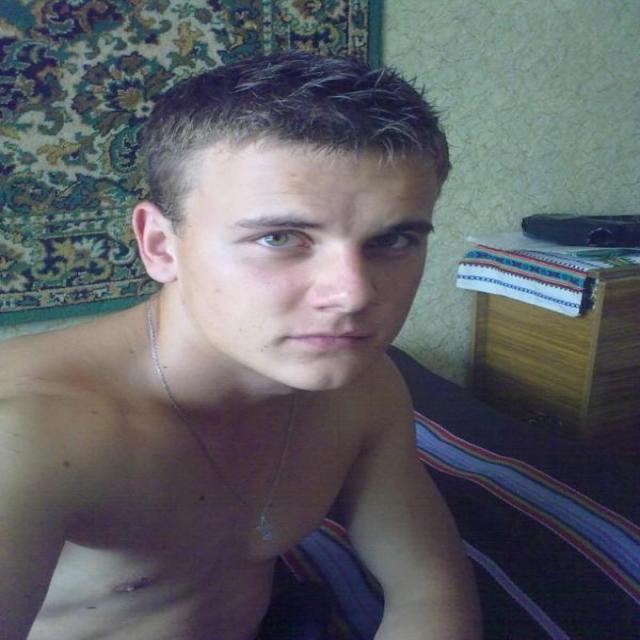earlobe: (131, 202, 179, 284)
